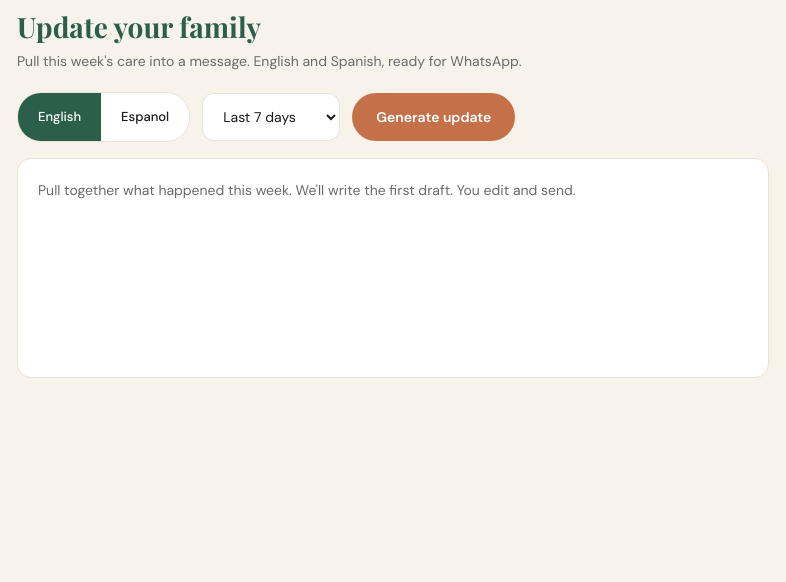
Test: Family Update generator (rendered via page) › 1. language toggle changes the request language sent to the API
Click the button "Espanol" at (145, 117), box 101,93 -> 189,141
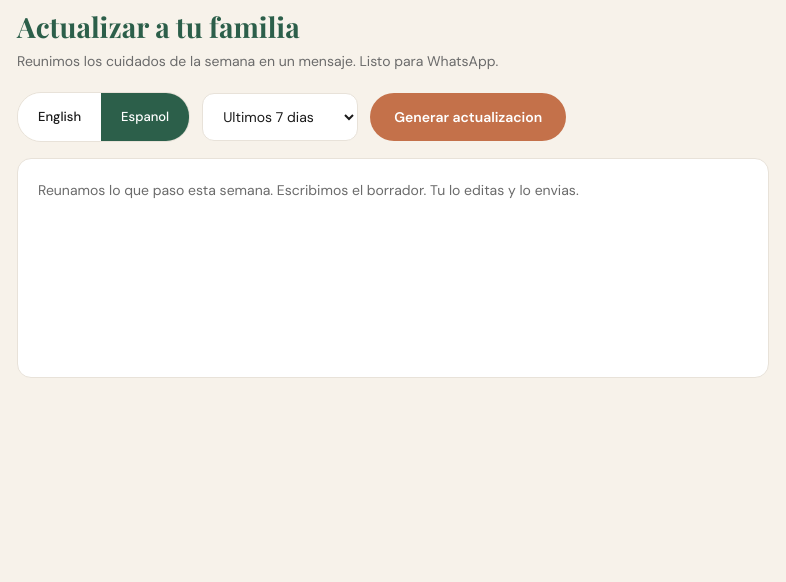
Click the button with aria-label "Generate update" at (468, 117), box 370,93 -> 566,141
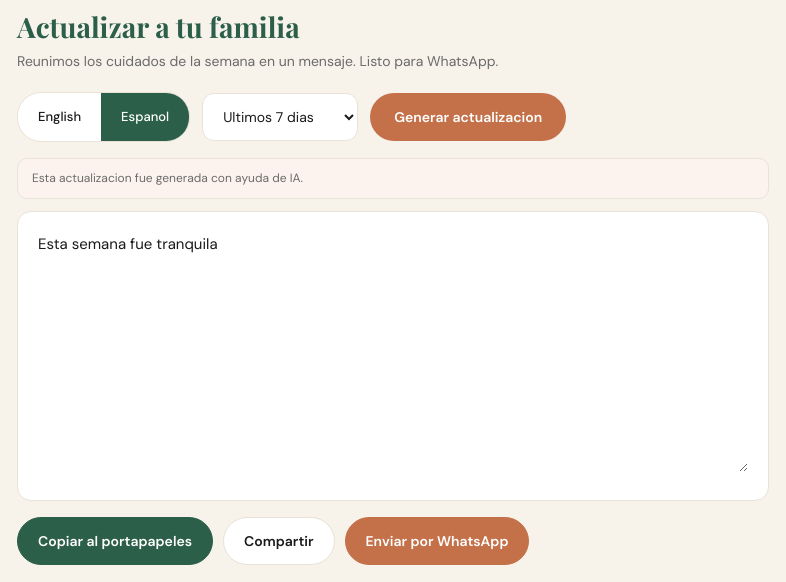
expect the text "Esta actualizacion fue generada con ayuda de IA." is shown: met, box 17,158 -> 769,199
